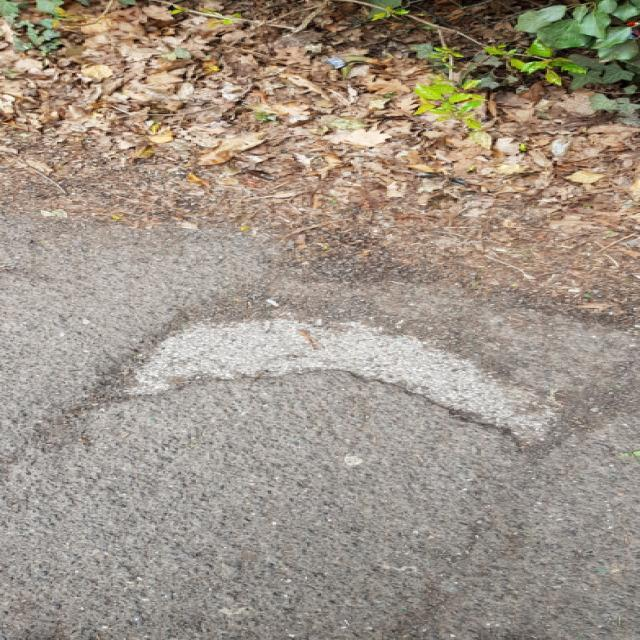pothole: (80, 296, 583, 454)
